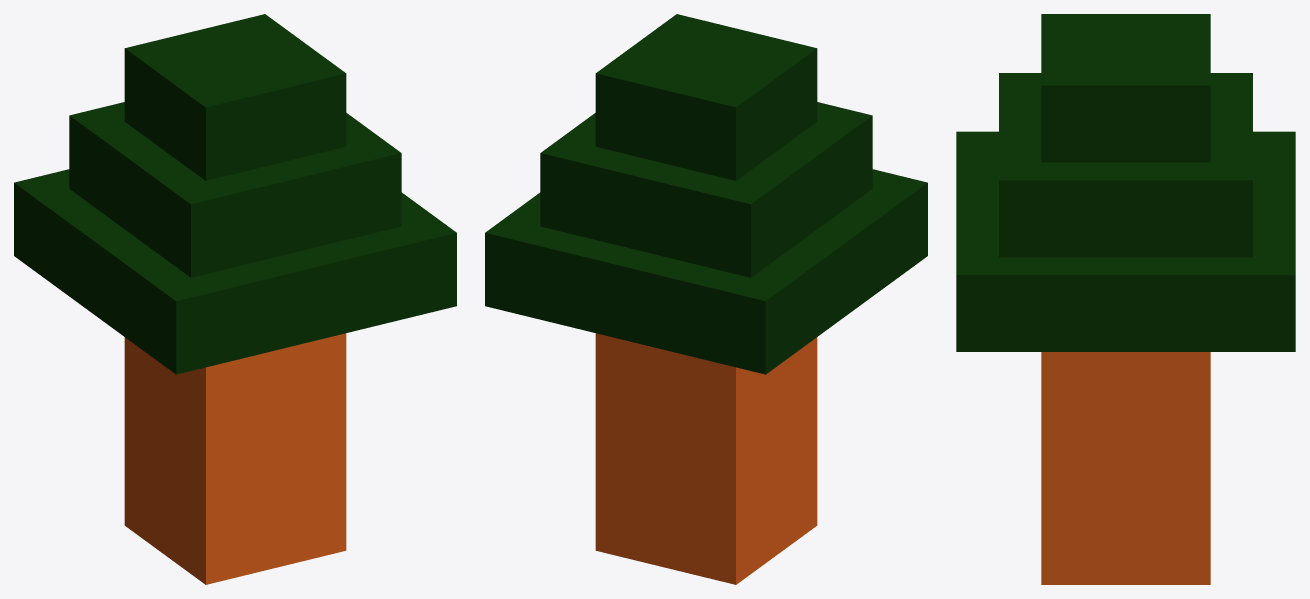
File: tree.fbx
The picture shows the model from 3 angles, left to right: view 1: azimuth 30°, elevation 25°; view 2: azimuth 150°, elevation 25°; view 3: azimuth 270°, elevation 25°; orthographic projection. The views are drawn at different scales.
Visible parts, largest first — view 1: Cube, Cube.002, Cube.009, Cube.010; view 2: Cube, Cube.002, Cube.009, Cube.010; view 3: Cube.002, Cube, Cube.009, Cube.010.
Boxes of the visible parts, bbox=[...] form: Cube: bbox=[124, 333, 346, 584]; Cube.002: bbox=[14, 169, 456, 374]; Cube.009: bbox=[69, 102, 401, 277]; Cube.010: bbox=[124, 14, 346, 180]; Cube: bbox=[595, 333, 817, 584]; Cube.002: bbox=[485, 169, 927, 374]; Cube.009: bbox=[540, 102, 872, 277]; Cube.010: bbox=[595, 14, 817, 180]; Cube.002: bbox=[956, 131, 1295, 351]; Cube: bbox=[1041, 352, 1210, 584]; Cube.009: bbox=[999, 73, 1252, 257]; Cube.010: bbox=[1041, 14, 1210, 162].
Bounding box in the file's own units: 80 × 130 × 80.
